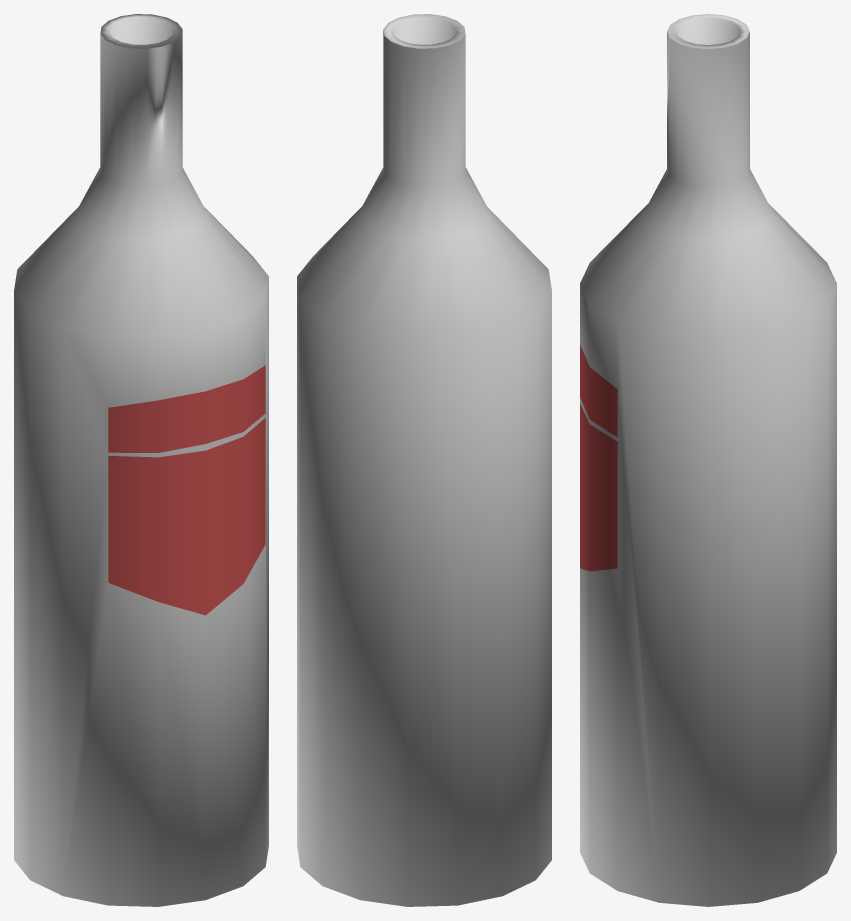
The model's file is Smirnoff1.fbx.
3 renders of one model, left to right at view 1: azimuth 30°, elevation 25°; view 2: azimuth 150°, elevation 25°; view 3: azimuth 270°, elevation 25°, orthographic.
Visible parts, largest first — view 1: Cylinder.004; view 2: Cylinder.004; view 3: Cylinder.004.
Boxes of the visible parts, <box> form: Cylinder.004: <box>14,14,268,906</box>; Cylinder.004: <box>297,14,551,906</box>; Cylinder.004: <box>580,14,836,906</box>.
Bounding box in the file's own units: 80 × 282 × 80.
